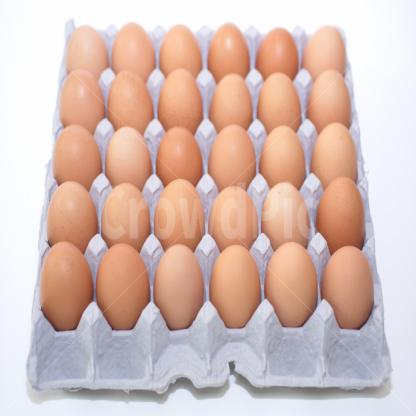egg: (256, 223, 327, 360), (82, 219, 161, 342), (32, 228, 102, 359), (152, 230, 212, 350), (198, 235, 266, 338), (316, 247, 390, 340), (258, 173, 322, 270), (34, 168, 104, 256), (145, 174, 214, 252), (104, 169, 164, 256), (246, 67, 310, 147), (132, 127, 198, 202), (233, 15, 294, 90), (102, 114, 156, 198), (316, 178, 370, 258), (214, 180, 265, 264), (158, 18, 216, 87), (94, 77, 156, 139), (310, 124, 368, 190), (192, 24, 258, 82), (56, 26, 121, 84), (302, 16, 372, 68), (207, 120, 258, 189), (164, 71, 214, 140), (257, 131, 311, 193), (100, 32, 150, 91), (44, 132, 93, 184), (213, 86, 260, 137), (72, 76, 110, 134), (314, 72, 354, 124)
